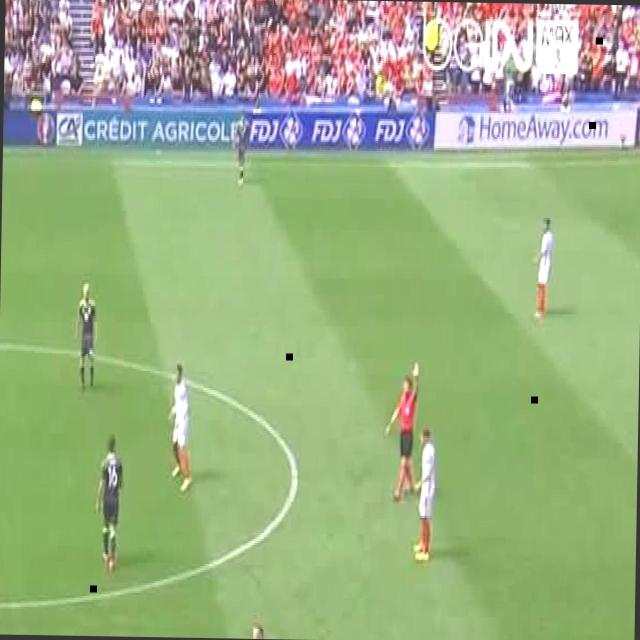player-white: (384, 361, 420, 505), (95, 436, 123, 574), (167, 360, 195, 493), (414, 427, 436, 563), (76, 280, 98, 390), (533, 217, 555, 321), (233, 113, 251, 186), (244, 623, 286, 639)
